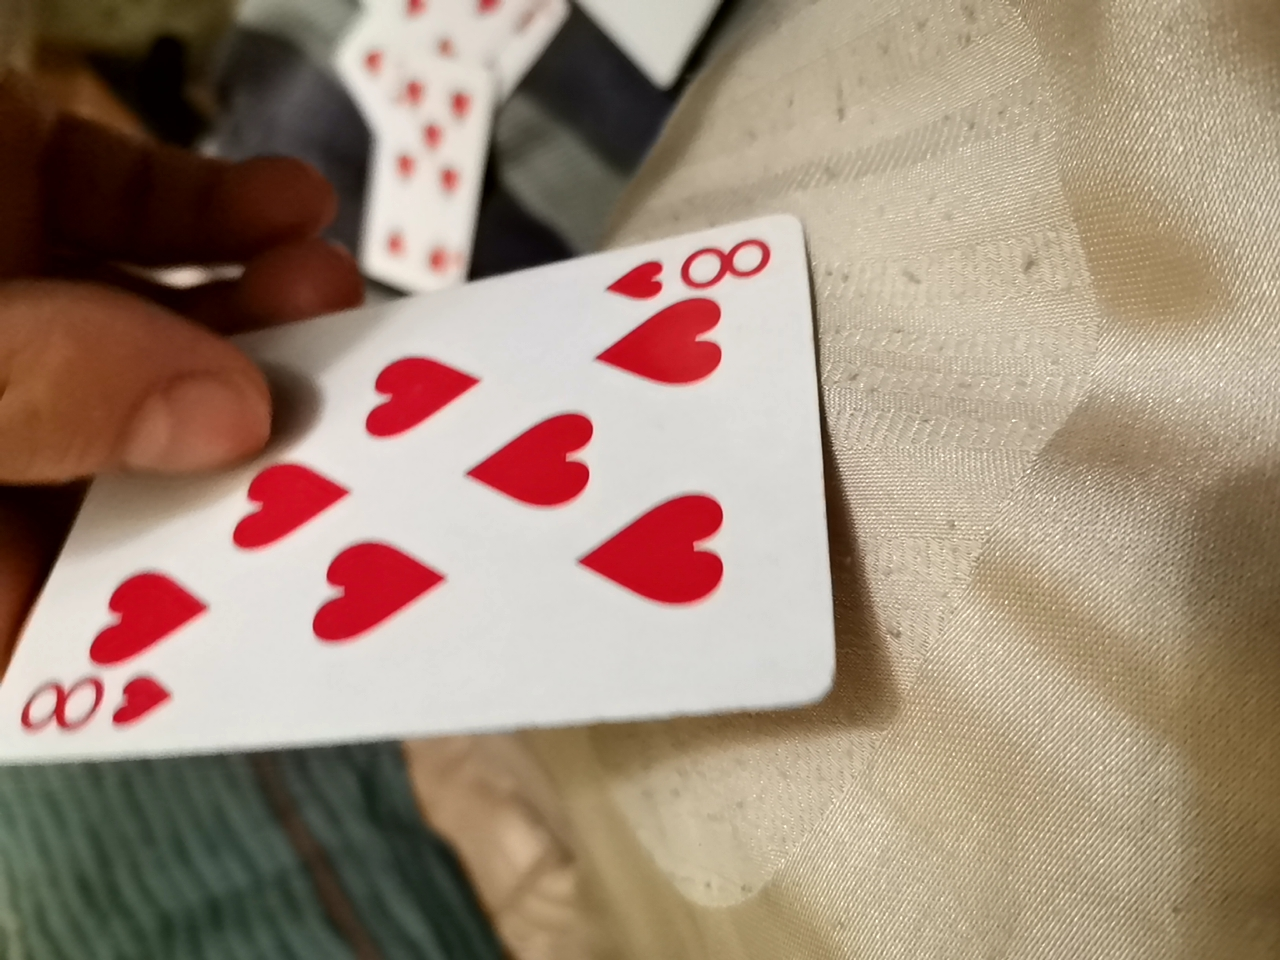hx 8: (0, 199, 853, 779)
